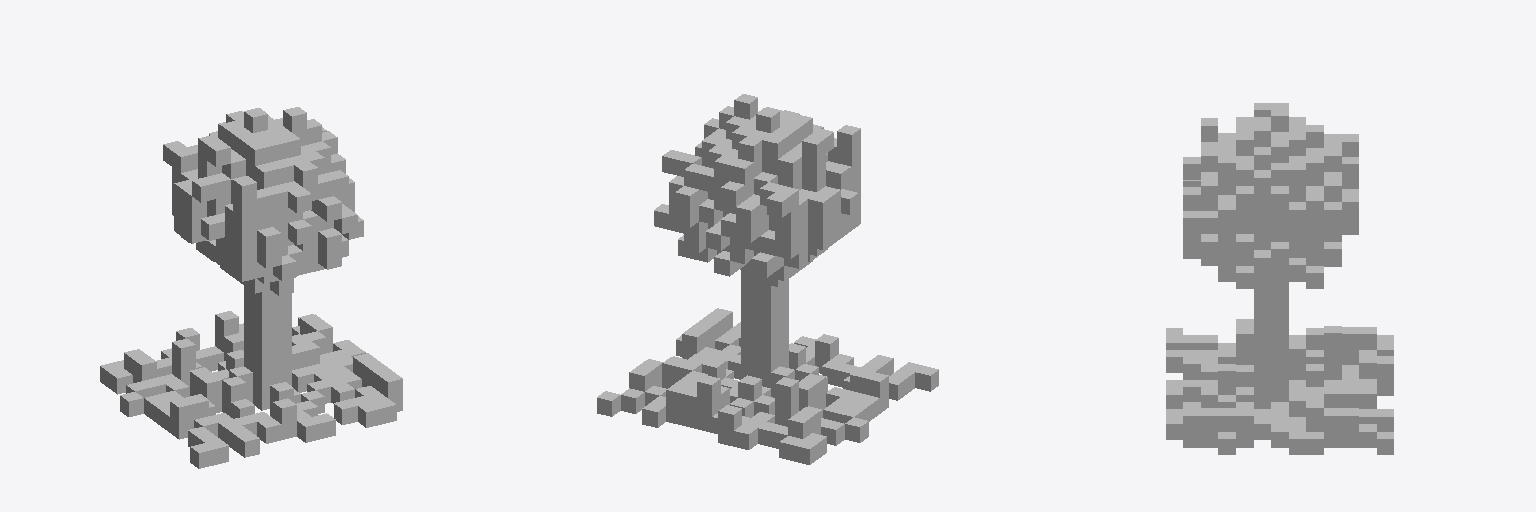
Rendered from panchina garibaldi veg.obj.
3 renders of one model, left to right at view 1: azimuth 30°, elevation 25°; view 2: azimuth 150°, elevation 25°; view 3: azimuth 270°, elevation 25°, orthographic.
Visible parts, largest first — view 1: object 1; view 2: object 1; view 3: object 1.
Part boxes in pixels (x1,y1,x2,y2): object 1: (100,107,402,468); object 1: (597,94,938,464); object 1: (1166,103,1393,454).
Size of the model in its own units: 1.5 by 1.8 by 1.3.